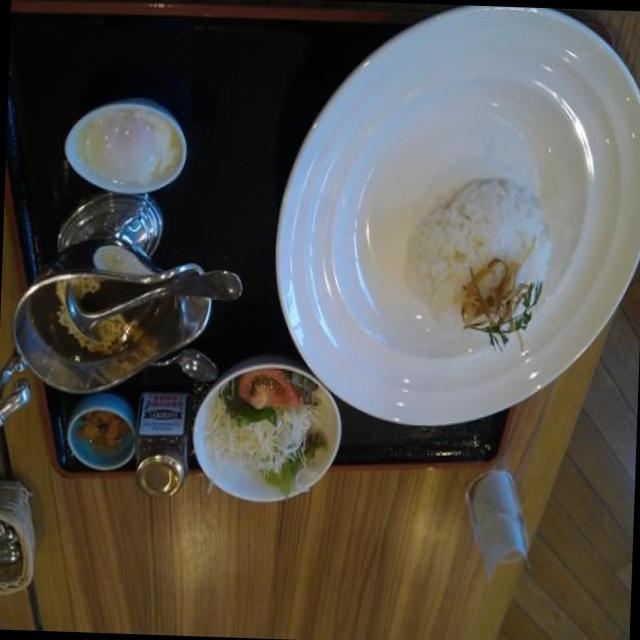Rice: (401, 174, 555, 356)
